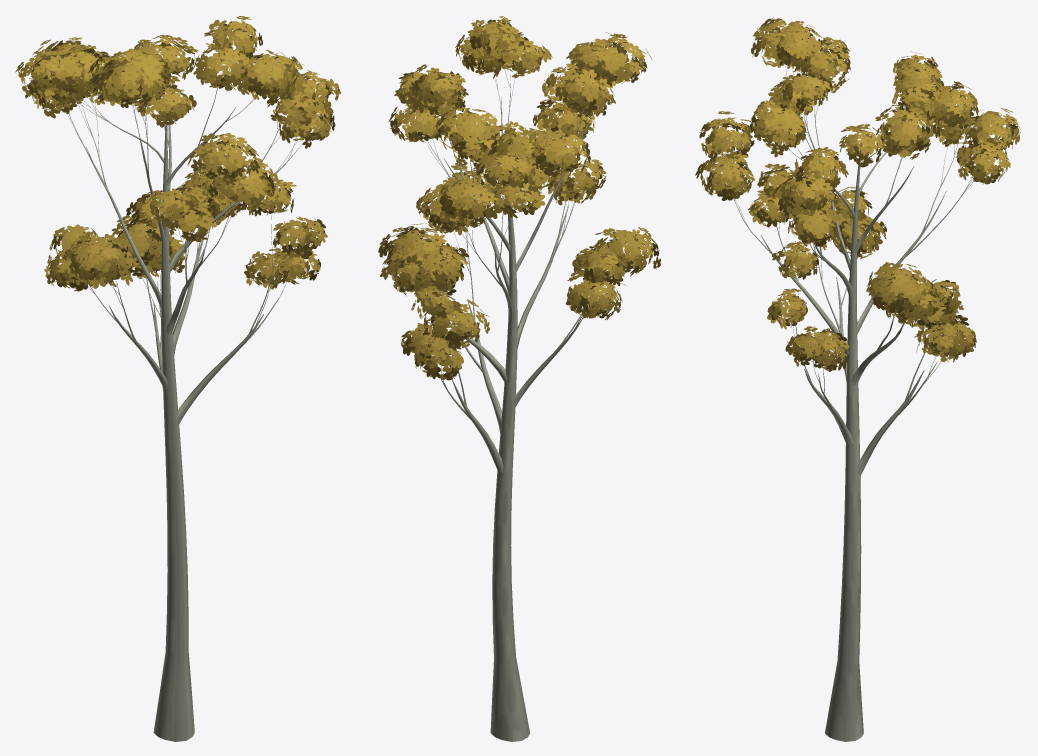
Rendered from tree.gltf.
3 views of the same model, side by side, from view 1: azimuth 30°, elevation 25°; view 2: azimuth 150°, elevation 25°; view 3: azimuth 270°, elevation 25° (orthographic). The views are drawn at different scales.
Visible parts, largest first — view 1: Tree_LOD0; view 2: Tree_LOD0; view 3: Tree_LOD0.
Boxes of the visible parts, x1,y1,x2,y2 form: Tree_LOD0: (15,16,341,741); Tree_LOD0: (378,16,660,741); Tree_LOD0: (695,17,1020,741).
Bounding box in the file's own units: 10.61 × 26.4 × 11.64.
2 materials, 2 textured.
